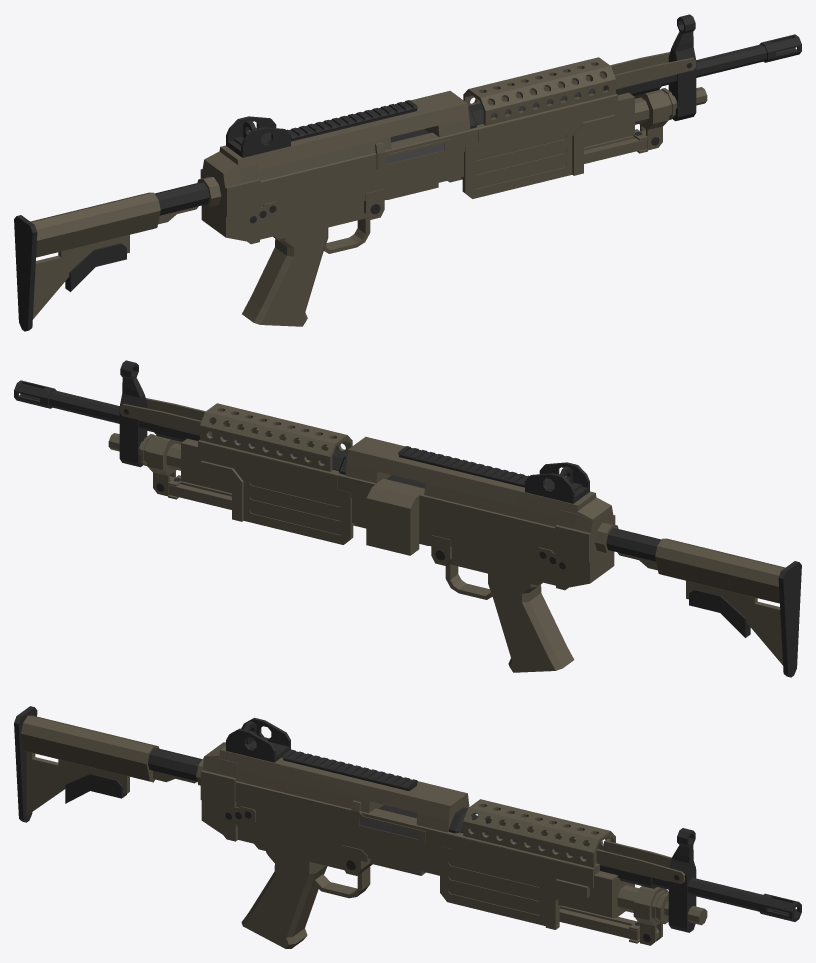
File: LMG2_02.fbx
The picture shows the model from 3 angles, top to bottom: view 1: azimuth 30°, elevation 25°; view 2: azimuth 150°, elevation 25°; view 3: azimuth 330°, elevation 25°; orthographic projection.
Parts seen in each view (by area): view 1: LMG2_02; view 2: LMG2_02; view 3: LMG2_02.
Boxes of the visible parts, <box> form: LMG2_02: <box>14,14,801,331</box>; LMG2_02: <box>14,360,801,677</box>; LMG2_02: <box>14,706,801,948</box>.
Bounding box in the file's own units: 1.13 × 0.2931 × 0.0903.
